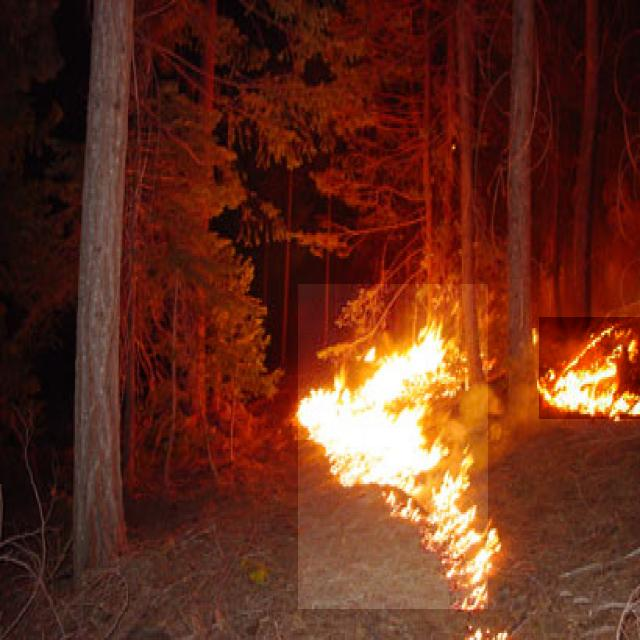Fire: (298, 284, 488, 609), (539, 317, 640, 419)
